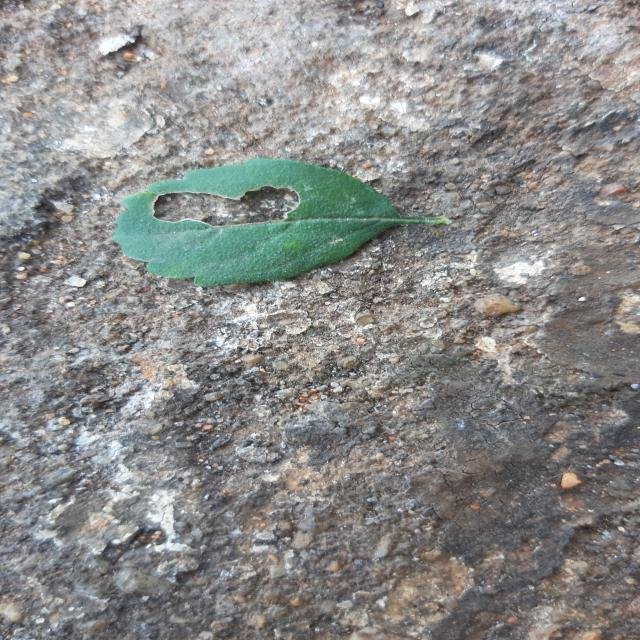tecoma: (113, 159, 449, 286)
